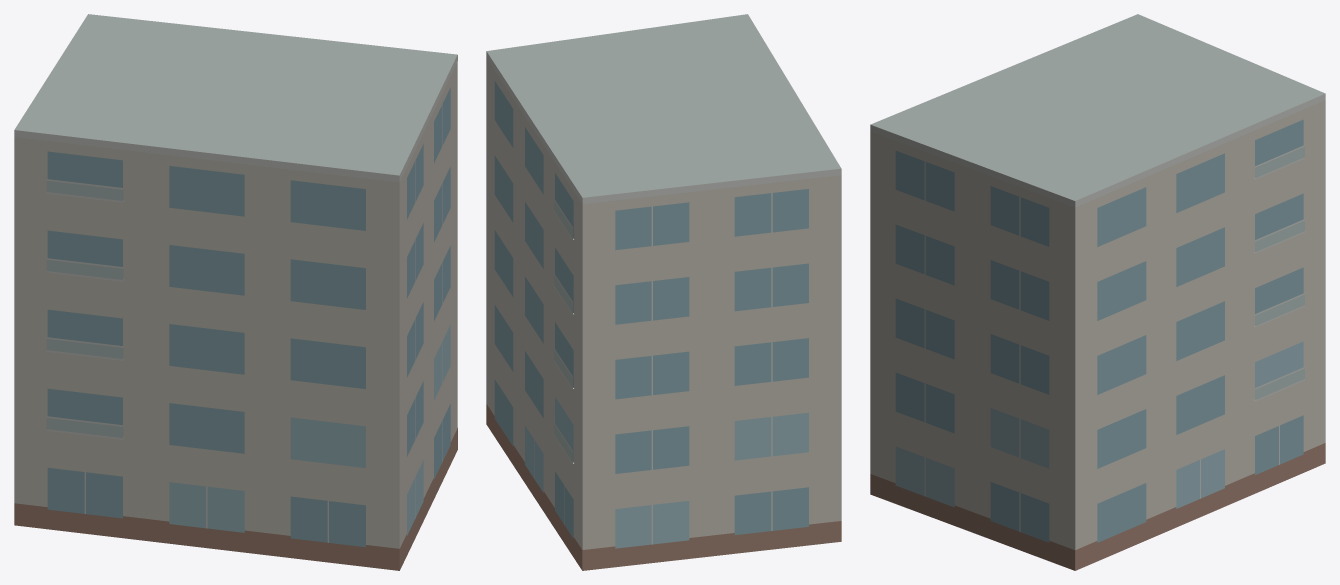
The model's file is survey-upis-32842774.glb.
3 renders of one model, left to right at view 1: azimuth 30°, elevation 25°; view 2: azimuth 150°, elevation 25°; view 3: azimuth 270°, elevation 25°, orthographic. The views are drawn at different scales.
Parts seen in each view (by area): view 1: survey-upis-32842774.tmp; view 2: survey-upis-32842774.tmp; view 3: survey-upis-32842774.tmp.
Part boxes in pixels (bbox=[...]): survey-upis-32842774.tmp: bbox=[14, 14, 457, 570]; survey-upis-32842774.tmp: bbox=[486, 14, 841, 570]; survey-upis-32842774.tmp: bbox=[870, 14, 1325, 570].
Size of the model in its own units: 15.31 by 14.1 by 15.74.
